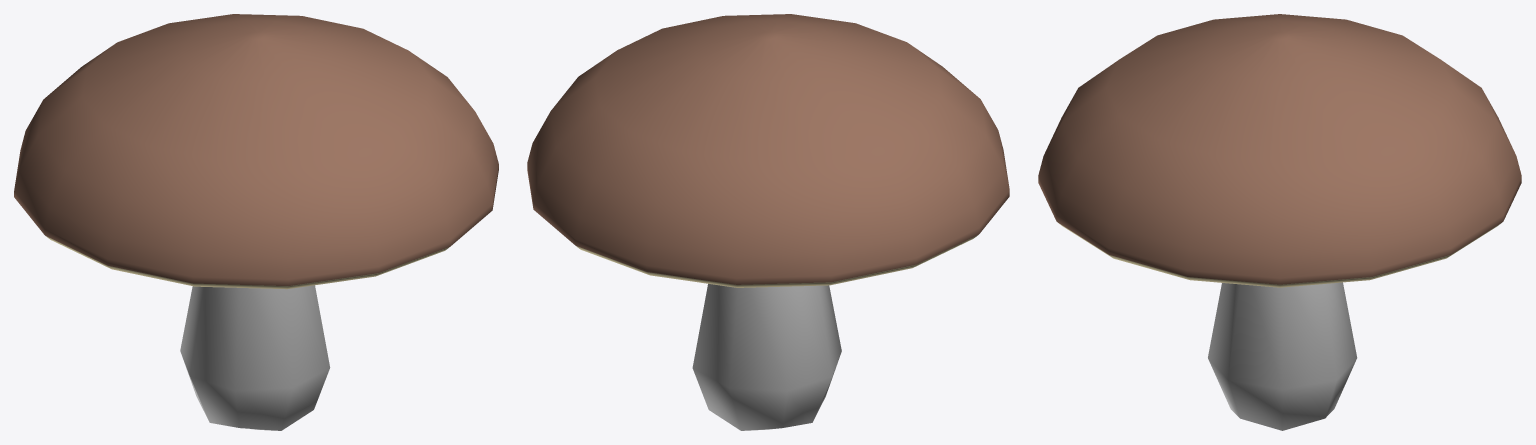
Rendered from Mushroom1.fbx.
3 views of the same model, side by side, from view 1: azimuth 30°, elevation 25°; view 2: azimuth 150°, elevation 25°; view 3: azimuth 270°, elevation 25° (orthographic).
Visible parts, largest first — view 1: BrownMushrrom; view 2: BrownMushrrom; view 3: BrownMushrrom.
Part boxes in pixels (<box>): BrownMushrrom: <box>14,14,498,430</box>; BrownMushrrom: <box>527,14,1009,430</box>; BrownMushrrom: <box>1038,14,1521,430</box>.
Bounding box in the file's own units: 1088 × 969 × 1088.
